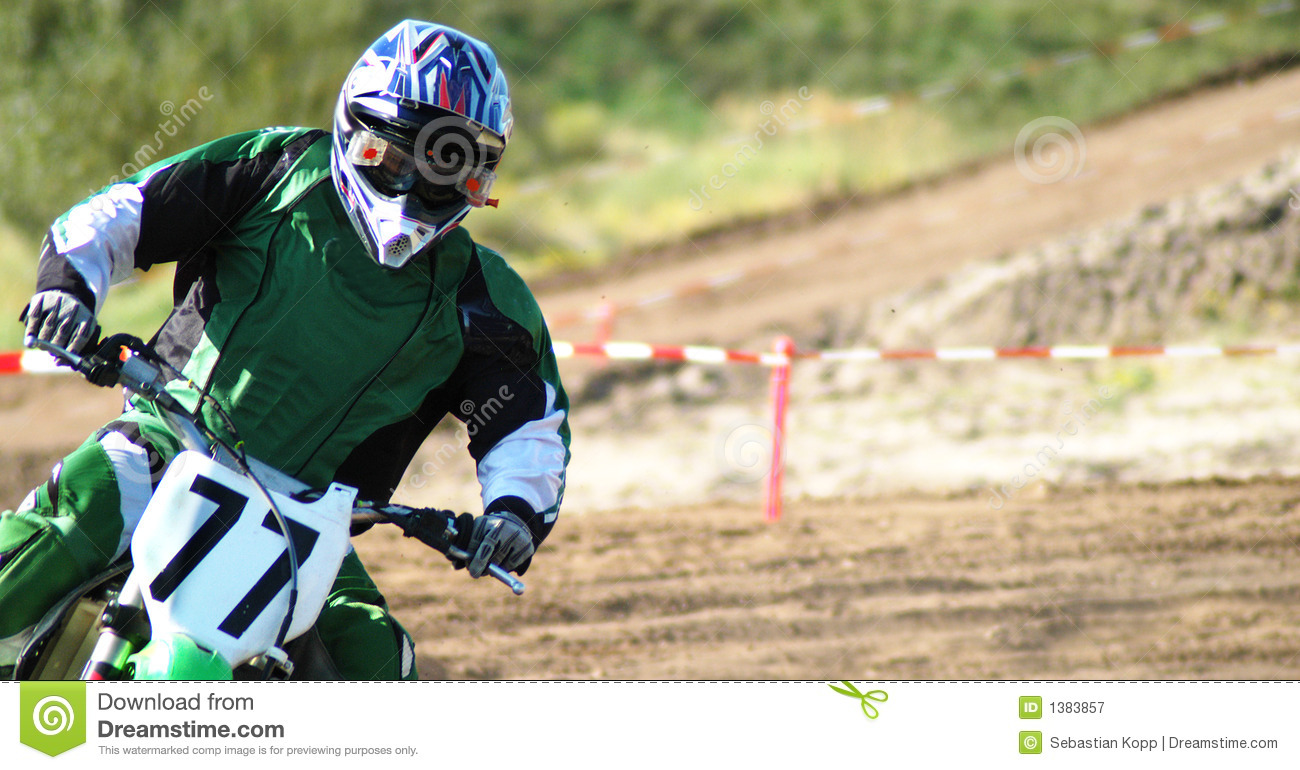helmet: (340, 24, 532, 272)
